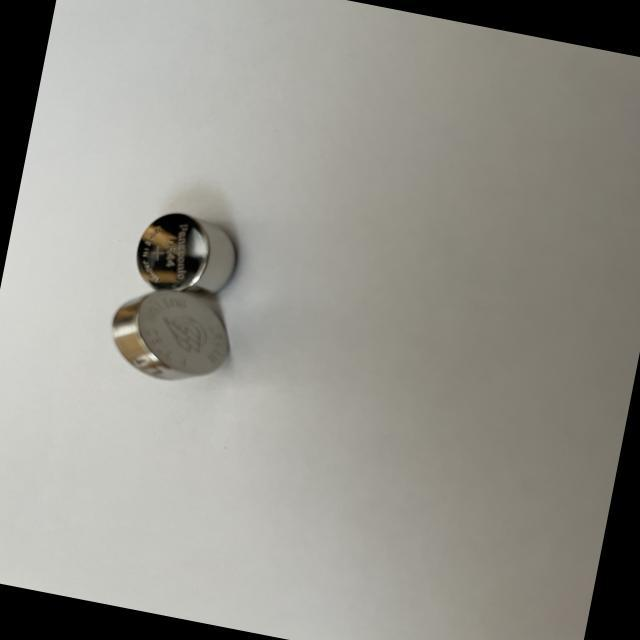COIN: (104, 278, 236, 391), (131, 206, 242, 302)
